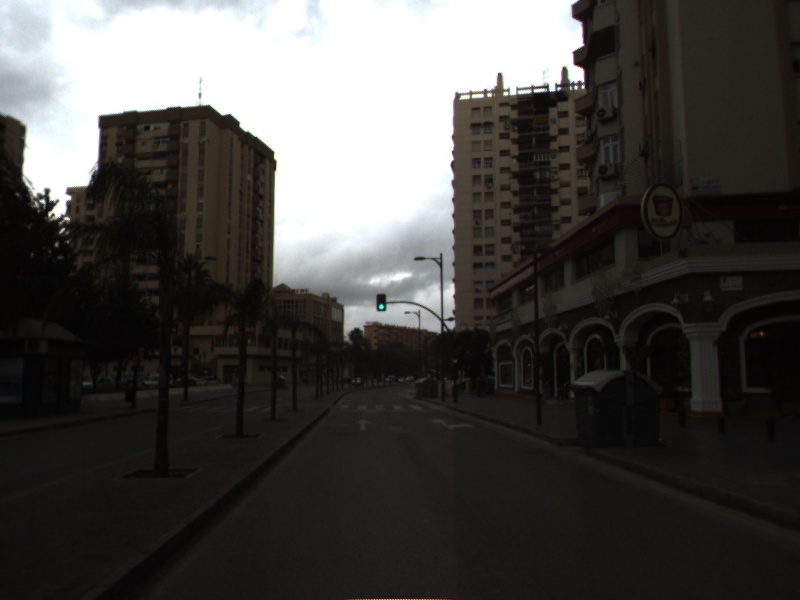STRAIGHT: (352, 417, 375, 433)
STRAIGHT_RIGHT: (429, 416, 476, 431)
